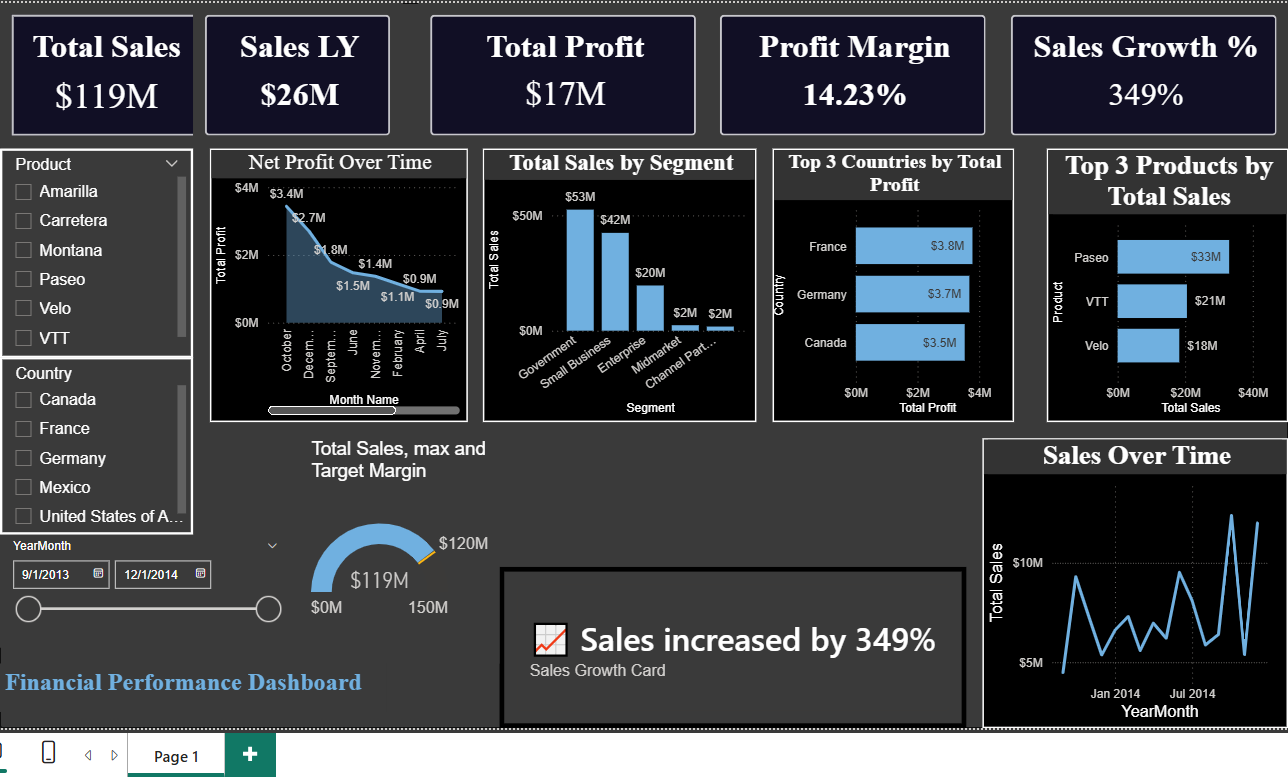

Layout of this report page (visuals, bound fields, positions):
{"tool":"powerbi","page":{"name":"Page 1","canvas":[1280,720],"ordinal":0},"visuals":[{"type":"cardVisual","fields":{"Data":["financials.Total Sales"]},"box":[0,0,208,144],"z":0},{"type":"cardVisual","fields":{"Data":["financials.Total Profit"]},"box":[416,0,288,144],"z":1000},{"type":"cardVisual","fields":{"Data":["financials.Profit Margin"]},"box":[704,0,288,144],"z":2000},{"type":"cardVisual","fields":{"Data":["financials.Sales Growth %"]},"box":[992,0,288,144],"z":3000},{"type":"lineChart","title":"Sales Over Time","fields":{"Y":["financials.Total Sales"],"Category":["DateTable.YearMonth"]},"box":[976,432,304,288],"z":4000},{"type":"clusteredColumnChart","fields":{"Category":["financials.Segment"],"Y":["financials.Total Sales"]},"box":[480,144,272,272],"z":5000},{"type":"clusteredBarChart","title":"Top 3 Products by Total Sales","fields":{"Category":["financials.Product"],"Y":["financials.Total Sales"]},"box":[1040,144,240,272],"z":6000},{"type":"areaChart","title":"Net Profit Over Time","fields":{"Category":["DateTable.Month Name"],"Y":["financials.Total Profit"]},"box":[208,144,256,272],"z":7000},{"type":"textbox","box":[0,656,384,48],"z":8000},{"type":"slicer","fields":{"Values":["DateTable.YearMonth"]},"box":[0,528,288,112],"z":9000},{"type":"slicer","fields":{"Values":["financials.Product"]},"box":[0,144,192,208],"z":10000},{"type":"slicer","fields":{"Values":["financials.Country"]},"box":[0,352,192,176],"z":11000},{"type":"cardVisual","fields":{"Data":["financials.Sales LY"]},"box":[192,0,208,144],"z":12000},{"type":"cardVisual","fields":{"Data":["DateTable.Sales Growth Card"]},"box":[496,560,464,160],"z":13000},{"type":"gauge","fields":{"Y":["financials.Total Sales"],"TargetValue":["DateTable.Target Margin"],"MaxValue":["DateTable.max"]},"box":[304,432,192,224],"z":14000},{"type":"clusteredBarChart","title":"Top 3 Countries by Total Profit","fields":{"Category":["financials.Country"],"Y":["financials.Total Profit"]},"box":[768,144,240,272],"z":15000}]}

Visuals, with their boxes on the page's 1280x720 design canvas (x1, y1, x2, y2). These are canvas units, not pixel positions in the 1288x777 screenshot, which may show the page scaled, cropped or inside an application window:
cardVisual - financials.Total Sales: bbox=[0, 0, 208, 144]
cardVisual - financials.Total Profit: bbox=[416, 0, 704, 144]
cardVisual - financials.Profit Margin: bbox=[704, 0, 992, 144]
cardVisual - financials.Sales Growth %: bbox=[992, 0, 1280, 144]
"Sales Over Time" lineChart: bbox=[976, 432, 1280, 720]
clusteredColumnChart - financials.Segment x financials.Total Sales: bbox=[480, 144, 752, 416]
"Top 3 Products by Total Sales" clusteredBarChart: bbox=[1040, 144, 1280, 416]
"Net Profit Over Time" areaChart: bbox=[208, 144, 464, 416]
textbox: bbox=[0, 656, 384, 704]
slicer - DateTable.YearMonth: bbox=[0, 528, 288, 640]
slicer - financials.Product: bbox=[0, 144, 192, 352]
slicer - financials.Country: bbox=[0, 352, 192, 528]
cardVisual - financials.Sales LY: bbox=[192, 0, 400, 144]
cardVisual - DateTable.Sales Growth Card: bbox=[496, 560, 960, 720]
gauge - financials.Total Sales x DateTable.Target Margin: bbox=[304, 432, 496, 656]
"Top 3 Countries by Total Profit" clusteredBarChart: bbox=[768, 144, 1008, 416]
